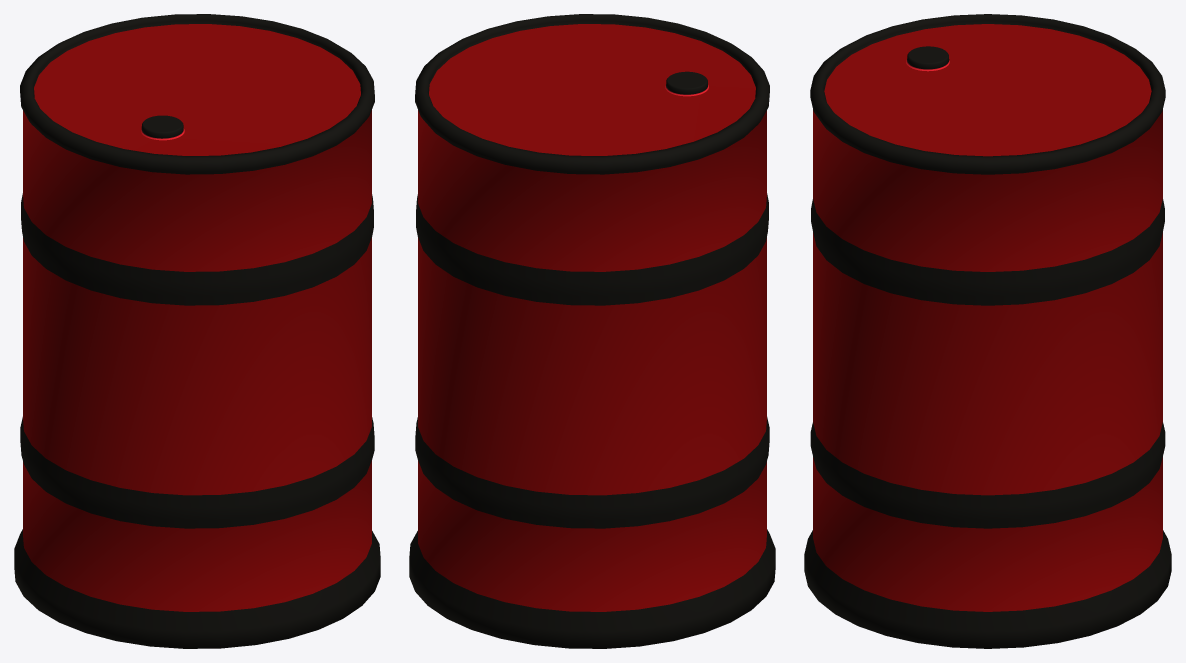
Rendered from barrel(1).fbx.
3 renders of one model, left to right at view 1: azimuth 30°, elevation 25°; view 2: azimuth 150°, elevation 25°; view 3: azimuth 270°, elevation 25°, orthographic.
Visible parts, largest first — view 1: Cylinder; view 2: Cylinder; view 3: Cylinder.
Part boxes in pixels (bbox=[...]): Cylinder: bbox=[14, 14, 380, 648]; Cylinder: bbox=[409, 14, 775, 648]; Cylinder: bbox=[804, 14, 1171, 648].
Size of the model in its own units: 361 by 526 by 361.
